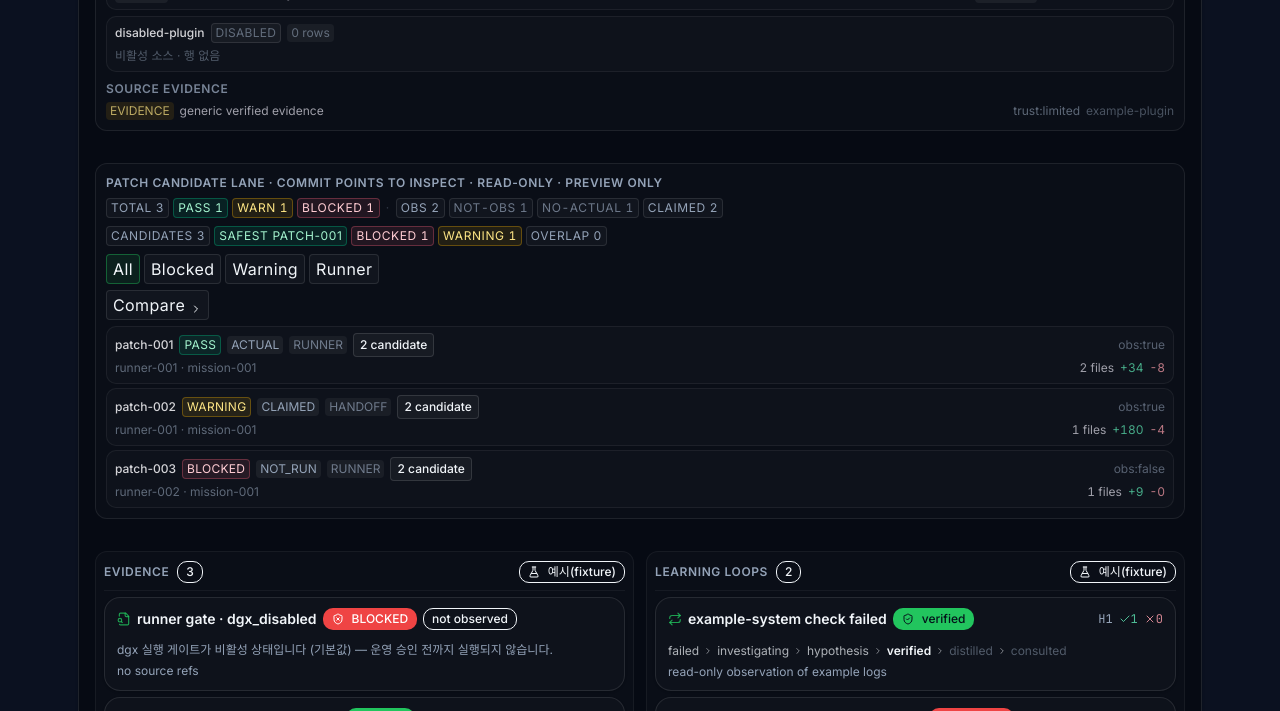
it: Batch 17 LINE B — patch detail drawer › clicking a candidate opens a read-only patch drawer with grouped sections
(page scrolled)
Click the button with test id "patch-candidate-patch-001" at (144, 344), box [106,326,1174,384]
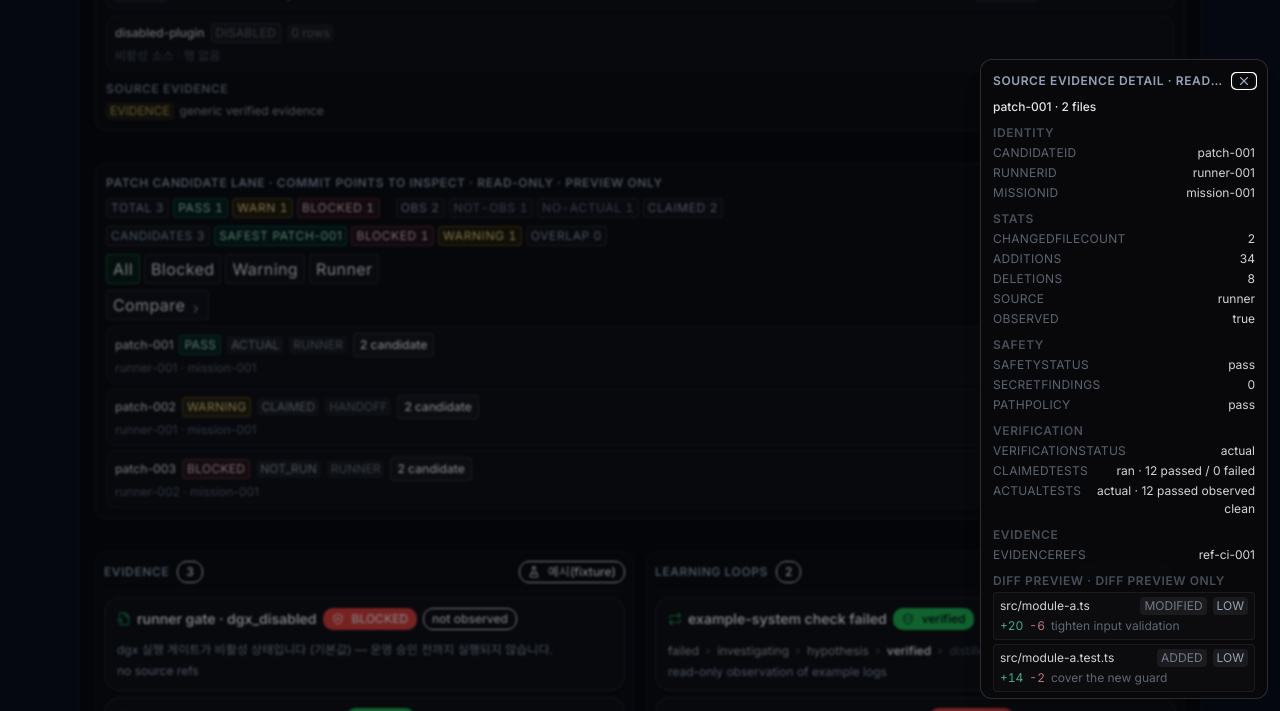
expect the element with test id "source-detail-section-identity" is shown: met, box [993,124,1255,202]
expect the element with test id "source-detail-section-stats" is shown: met, box [993,210,1255,328]
expect the element with test id "source-detail-section-safety" is shown: met, box [993,336,1255,414]
